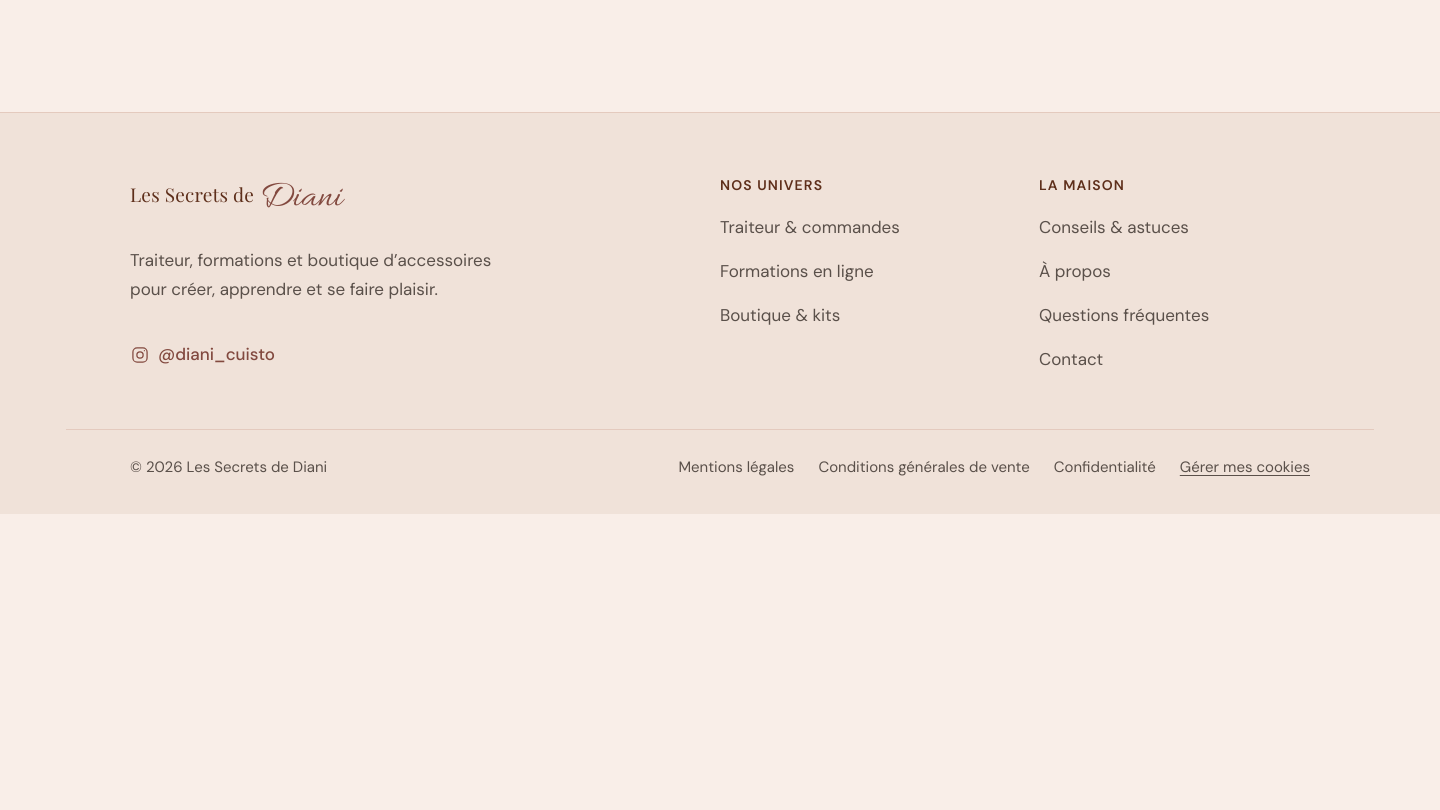
Test: CookieConsent › se rouvre depuis le lien « Gérer mes cookies »
Expected: the element "Vos cookies, votre choix" is not shown
Step 1. Click the button "Gérer mes cookies" → (1245, 468), box [1180,446,1310,490]
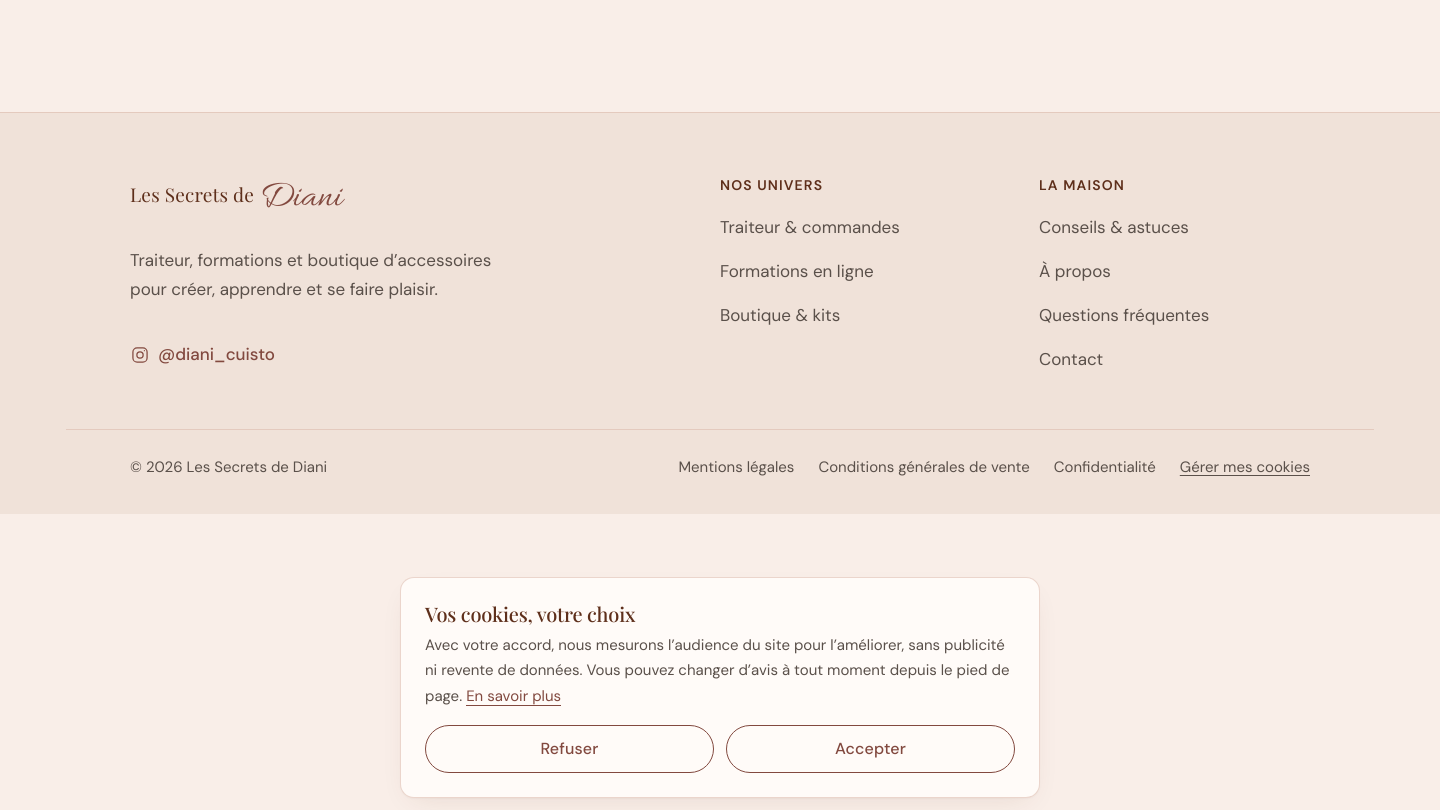
Result: the element "Vos cookies, votre choix" is shown at [400,576,1040,798]
